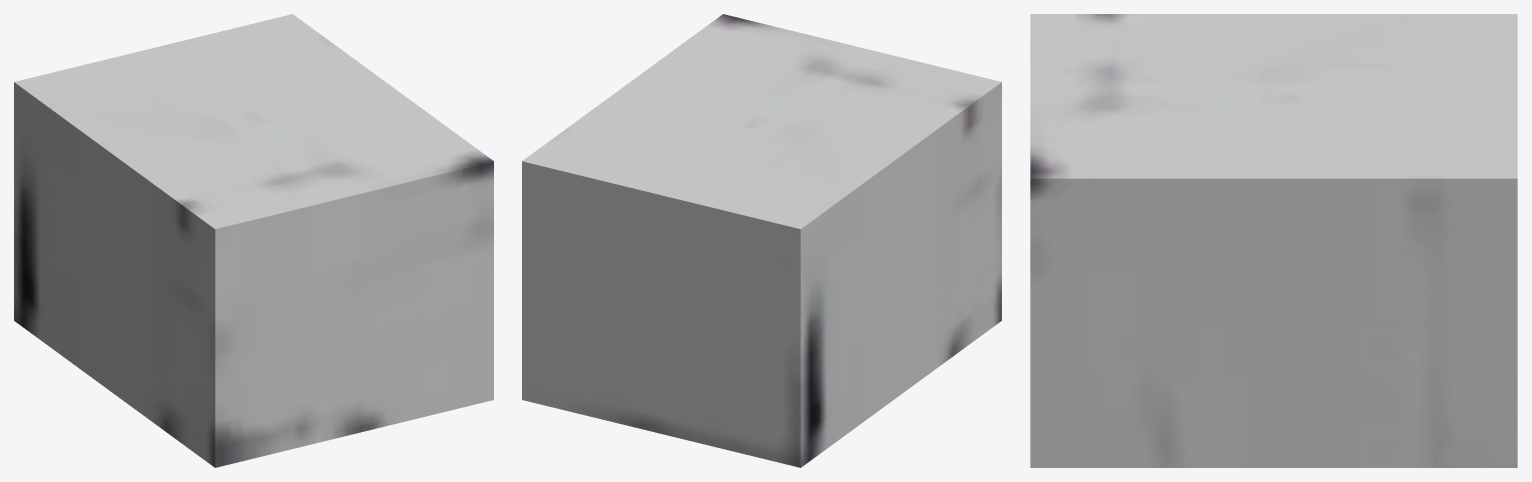
Rendered from frame__back_rail_gusset_1.glb.
3 views of the same model, side by side, from view 1: azimuth 30°, elevation 25°; view 2: azimuth 150°, elevation 25°; view 3: azimuth 270°, elevation 25° (orthographic). The views are drawn at different scales.
Visible parts, largest first — view 1: world; view 2: world; view 3: world.
Part boxes in pixels (bbox=[...]): world: bbox=[14, 14, 493, 467]; world: bbox=[522, 14, 1001, 467]; world: bbox=[1030, 14, 1517, 467].
Size of the model in its own units: 0.044 by 0.036 by 0.055.
Materials: 1 (1 with a texture image).
